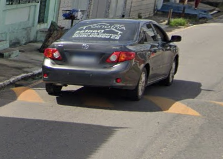car: (42, 18, 183, 104)
